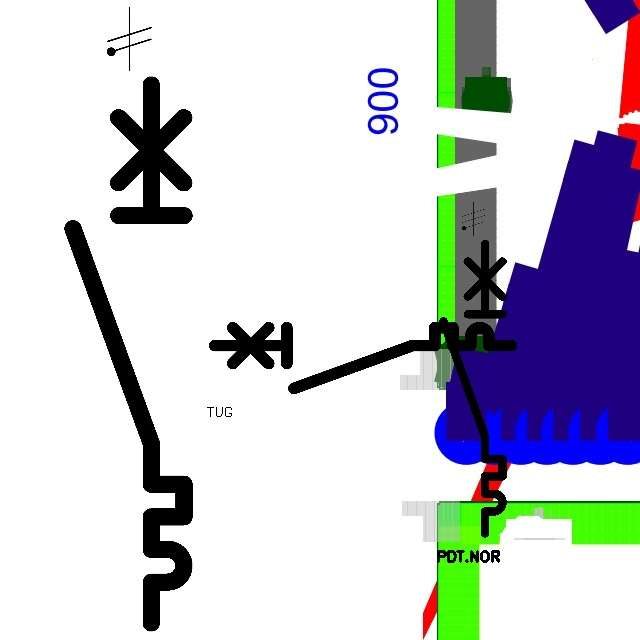interruptor_termomagnetico: (59, 71, 198, 637), (207, 320, 519, 396), (436, 236, 510, 540)
